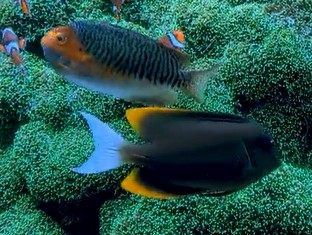fishes: (41, 19, 197, 97)
